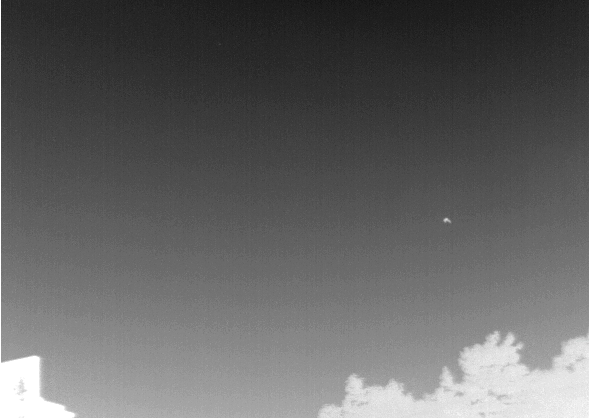dim target: (441, 215, 452, 226)
